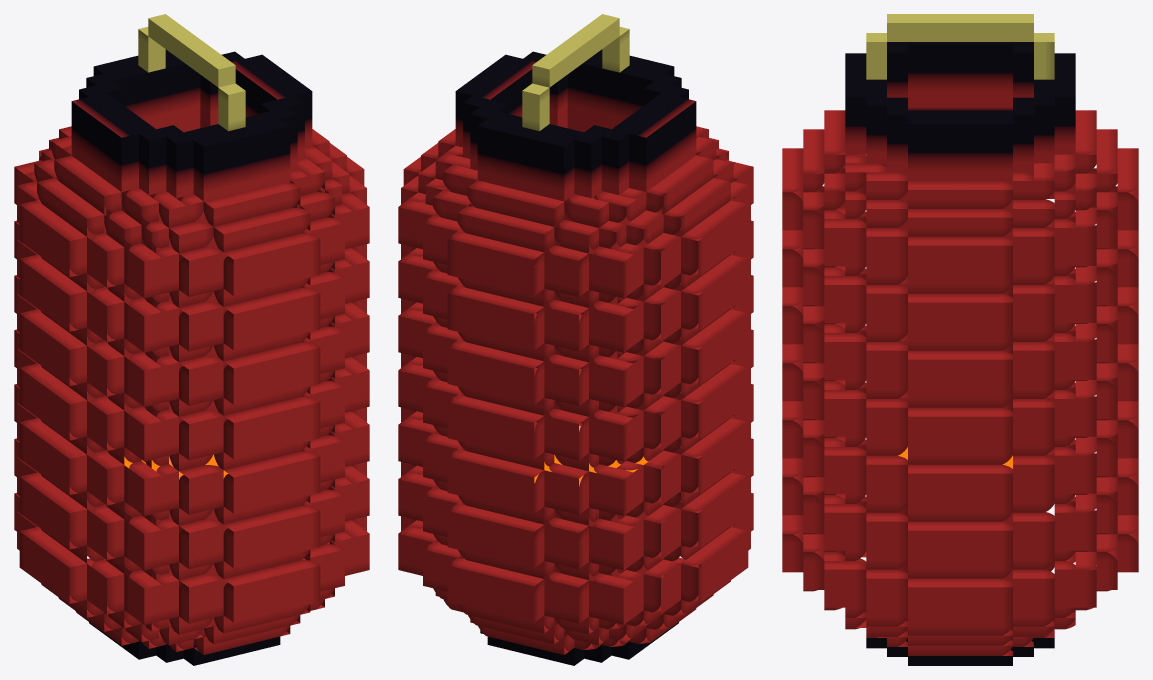
The model's file is latarnia_japan_clasic.dae.
3 views of the same model, side by side, from view 1: azimuth 30°, elevation 25°; view 2: azimuth 150°, elevation 25°; view 3: azimuth 270°, elevation 25° (orthographic). The views are drawn at different scales.
Parts seen in each view (by area): view 1: Content; view 2: Content; view 3: Content.
Boxes of the visible parts, x1=… form: Content: x1=14, y1=14, x2=369, y2=665; Content: x1=398, y1=14, x2=753, y2=665; Content: x1=782, y1=14, x2=1138, y2=665.
Size of the model in its own units: 17 by 32 by 17.
1 material, 1 textured.
